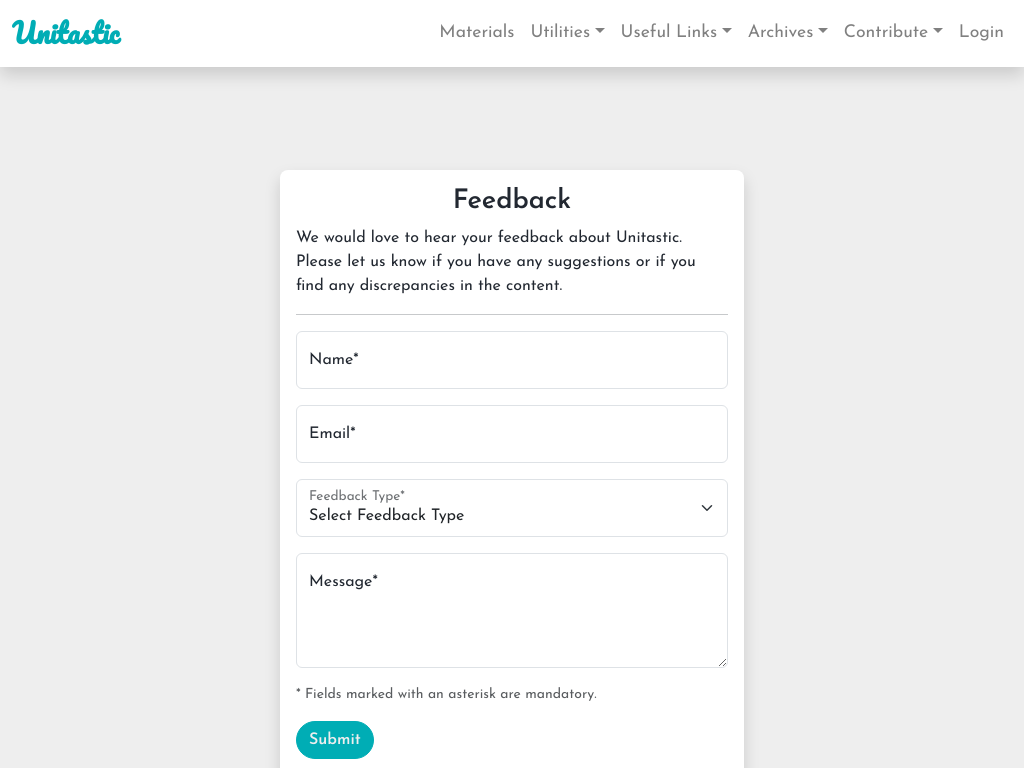
Test: FeedbackForm Component › handles successful form submission
Note: Fill out the form
Type "Jane Doe" into the field labelled "Name*" at (512, 360), box [296,331,728,389]
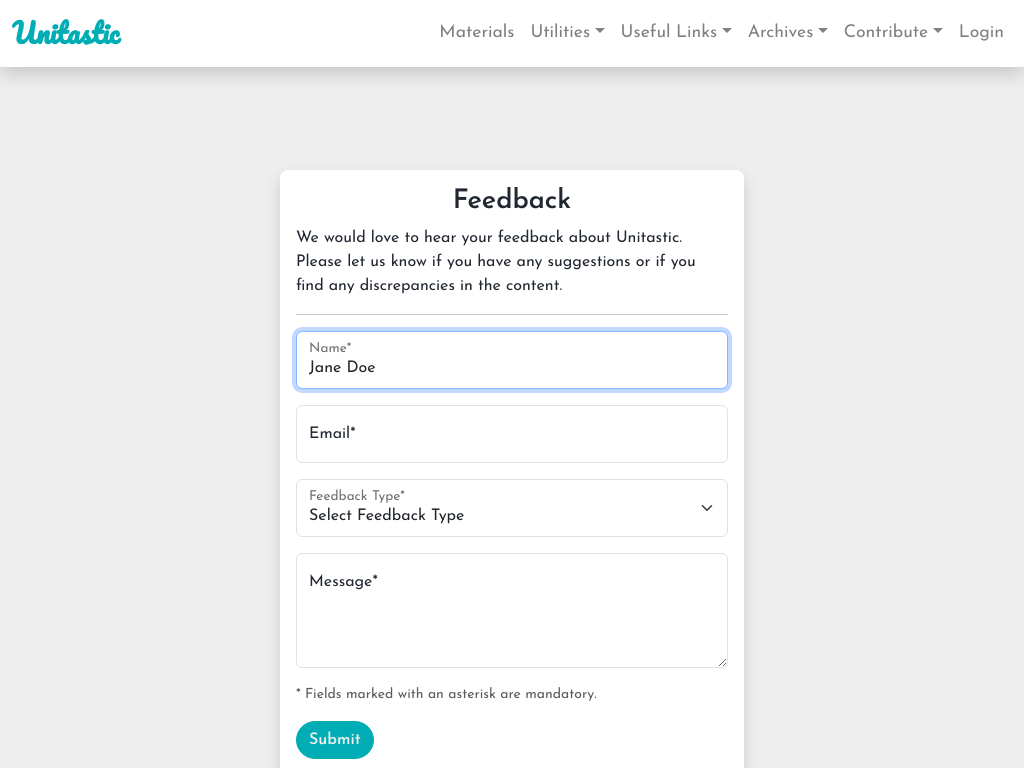
Type "jane@example.com" into the field labelled "Email*" at (512, 434), box [296,405,728,463]
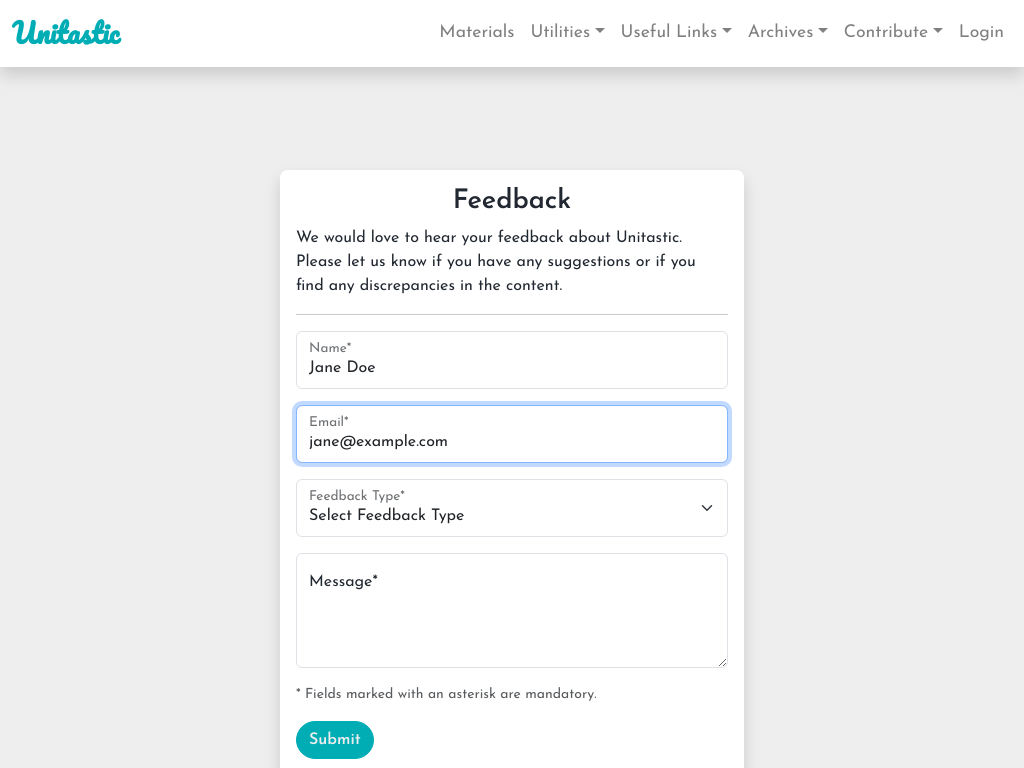
Select "Suggestion" in the dropdown labelled "Feedback Type*" at (512, 508), box [296,479,728,537]
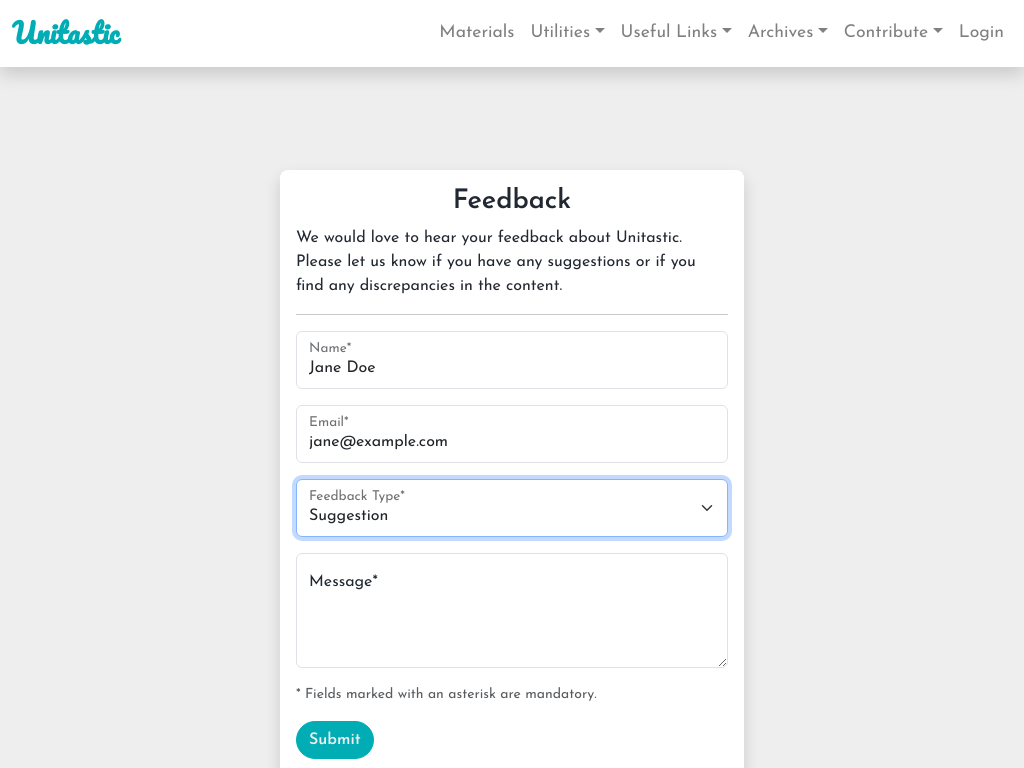
Type "Great website!" into the text box labelled "Message*" at (512, 610), box [296,553,728,668]
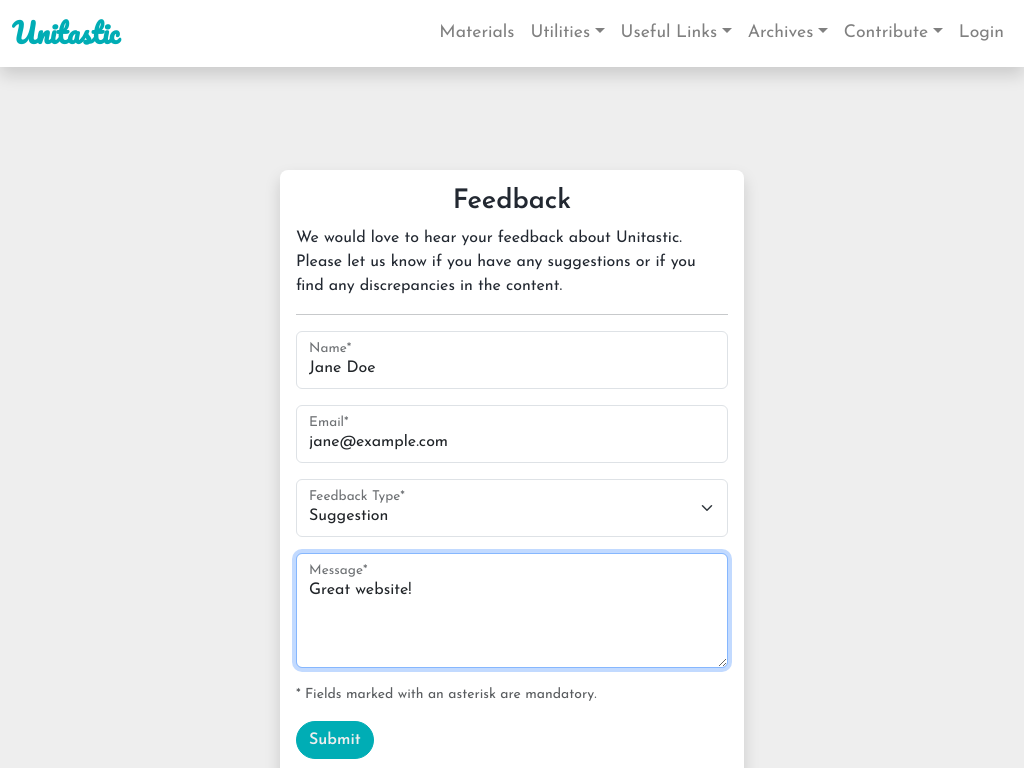
Click the button "Submit" at (335, 740), box [296,721,374,759]
(page scrolled)
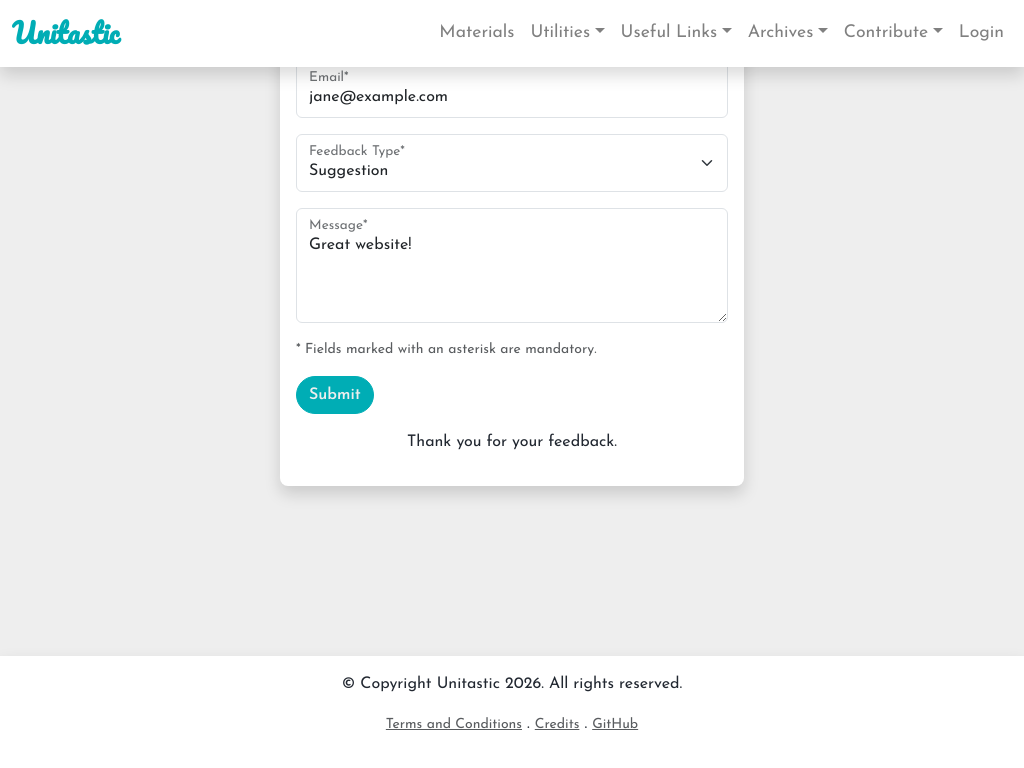
Check: the text "Thank you for your feedback." is shown, box [407,434,617,450]
